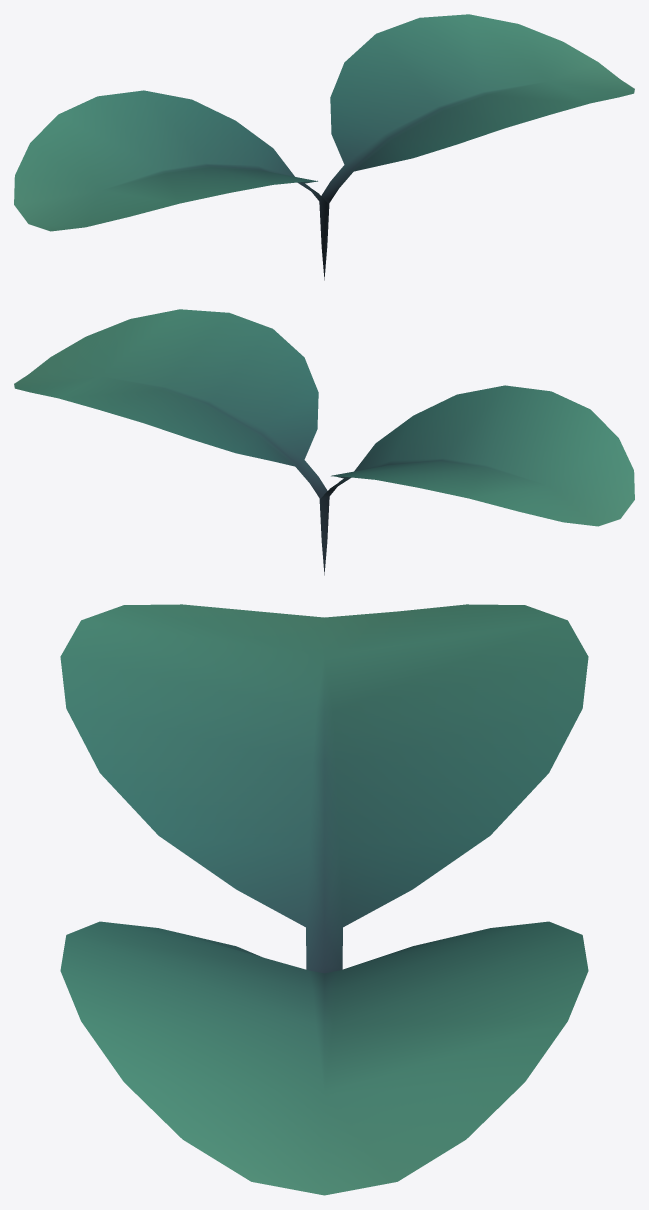
The model's file is S_BroadLeaf_Duo.fbx.
3 views of the same model, one above another, from view 1: azimuth 30°, elevation 25°; view 2: azimuth 150°, elevation 25°; view 3: azimuth 270°, elevation 25° (orthographic). The views are drawn at different scales.
Parts seen in each view (by area): view 1: BroadLeaf_Duo_GEO; view 2: BroadLeaf_Duo_GEO; view 3: BroadLeaf_Duo_GEO.
Part boxes in pixels (x1=…): BroadLeaf_Duo_GEO: x1=14, y1=14, x2=634, y2=280; BroadLeaf_Duo_GEO: x1=14, y1=309, x2=634, y2=575; BroadLeaf_Duo_GEO: x1=60, y1=604, x2=588, y2=1195.
Bounding box in the file's own units: 9.57 × 2.71 × 3.7.
